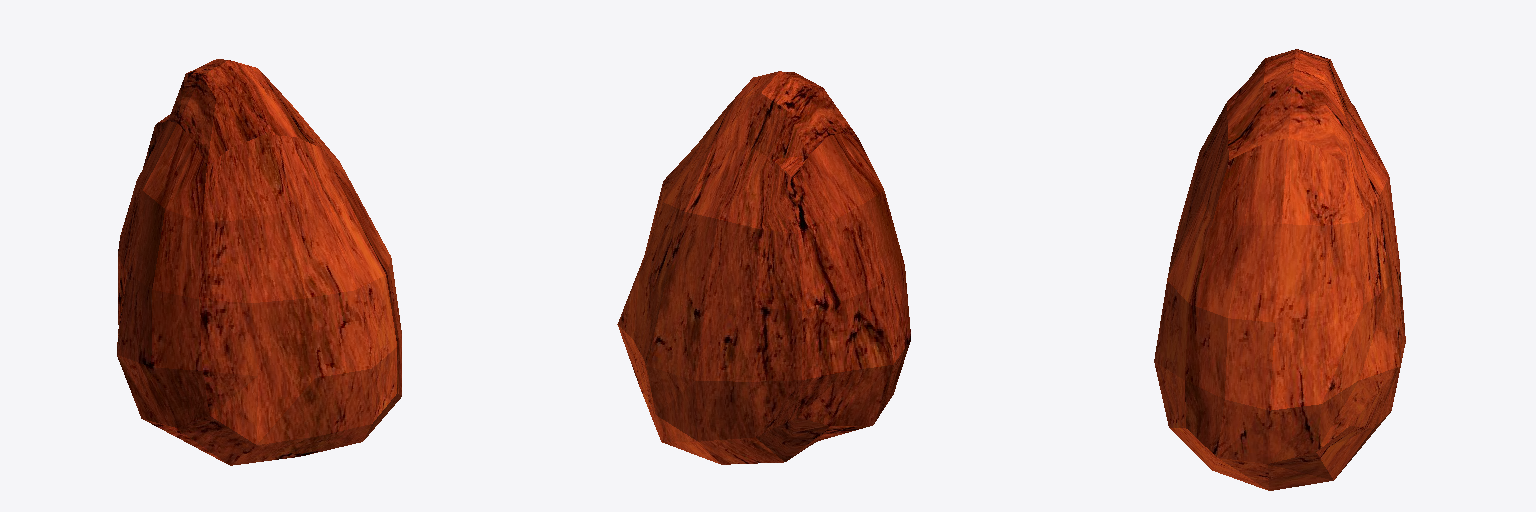
3 views of the same model, side by side, from view 1: azimuth 30°, elevation 25°; view 2: azimuth 150°, elevation 25°; view 3: azimuth 270°, elevation 25° (orthographic).
Parts seen in each view (by area): view 1: Cube; view 2: Cube; view 3: Cube.
Part boxes in pixels (x1,y1,x2,y2): Cube: (117,59,401,465); Cube: (617,71,910,464); Cube: (1154,49,1405,490).
Size of the model in its own units: 11.11 by 15.63 by 9.14.
1 materials, 1 textured.